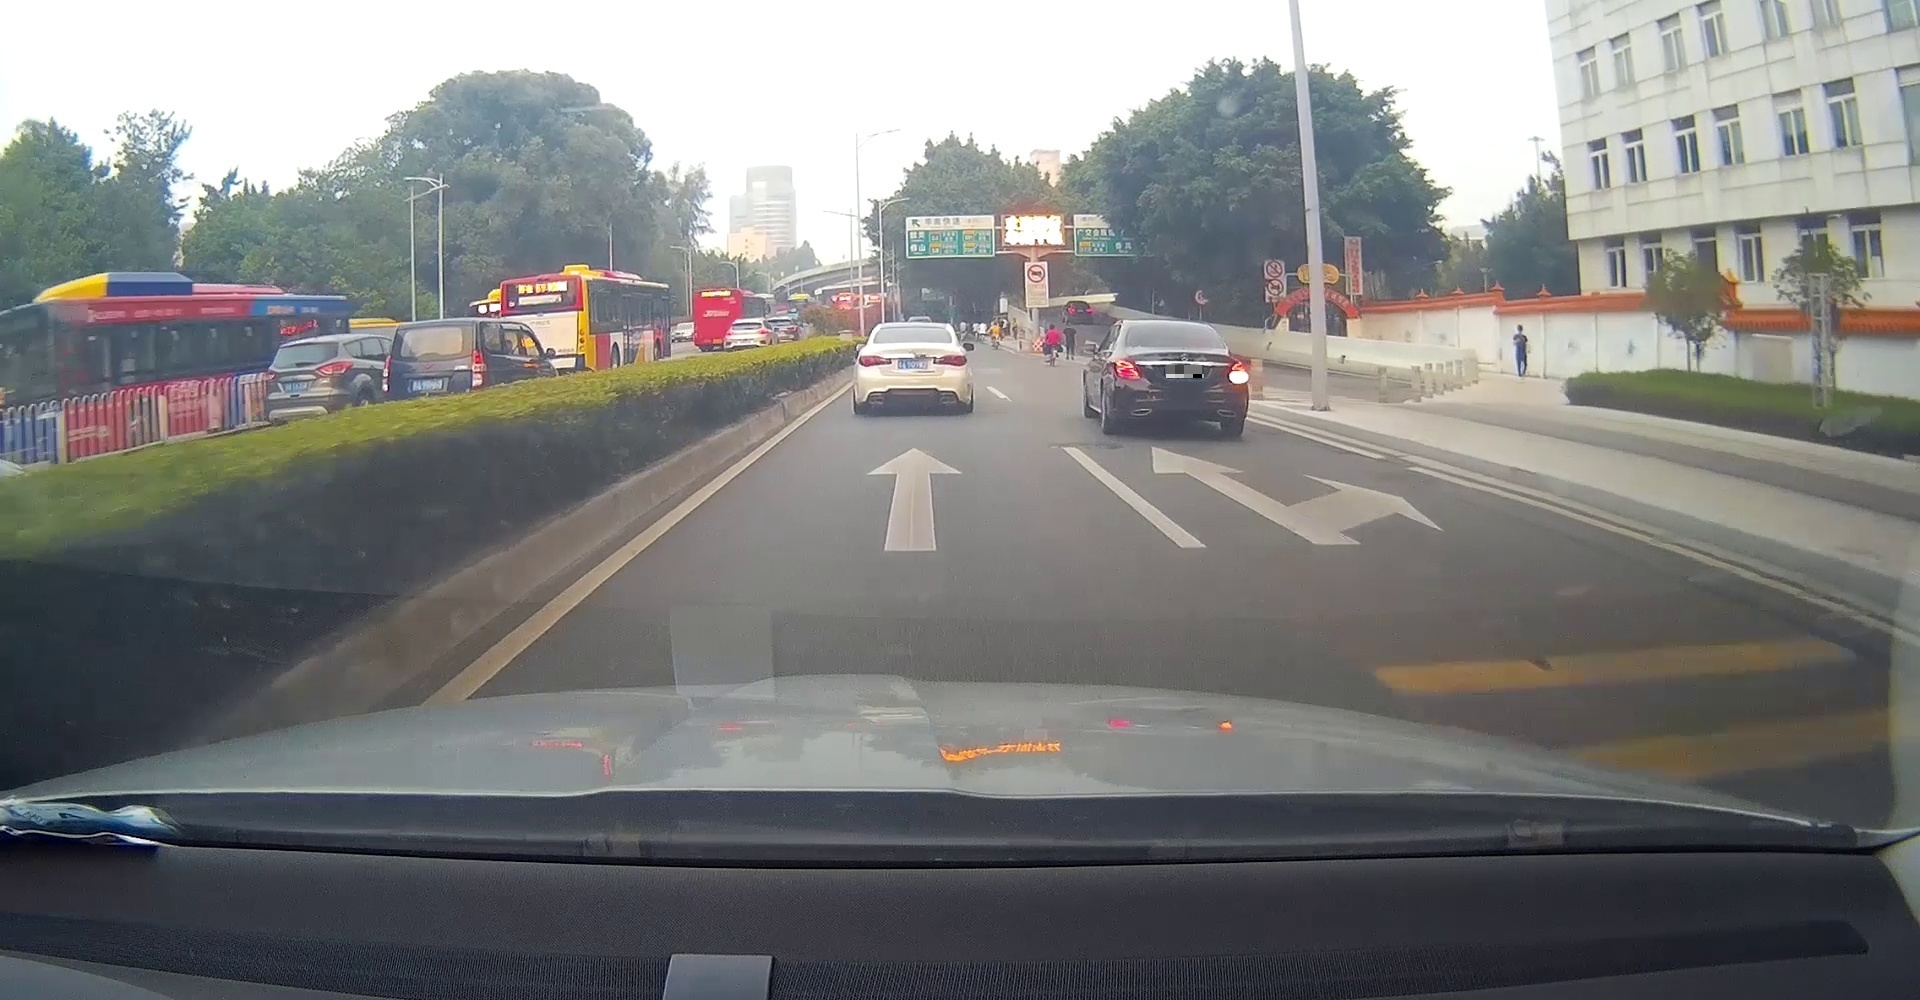L_light: (1112, 359, 1142, 379), (858, 357, 891, 367), (382, 355, 391, 391), (265, 369, 277, 382), (725, 330, 734, 336)
R_light: (1225, 360, 1248, 385), (317, 360, 353, 376), (471, 348, 483, 387), (933, 354, 968, 367), (759, 327, 768, 334)
T_light: (1163, 324, 1183, 330), (298, 341, 316, 346), (427, 325, 443, 330), (905, 326, 921, 331), (743, 322, 750, 325)
day-no: (855, 322, 973, 414), (382, 317, 484, 402), (264, 334, 356, 426), (724, 319, 768, 352)
day-right: (1112, 319, 1250, 435)
plate_1: (1166, 365, 1204, 378)
